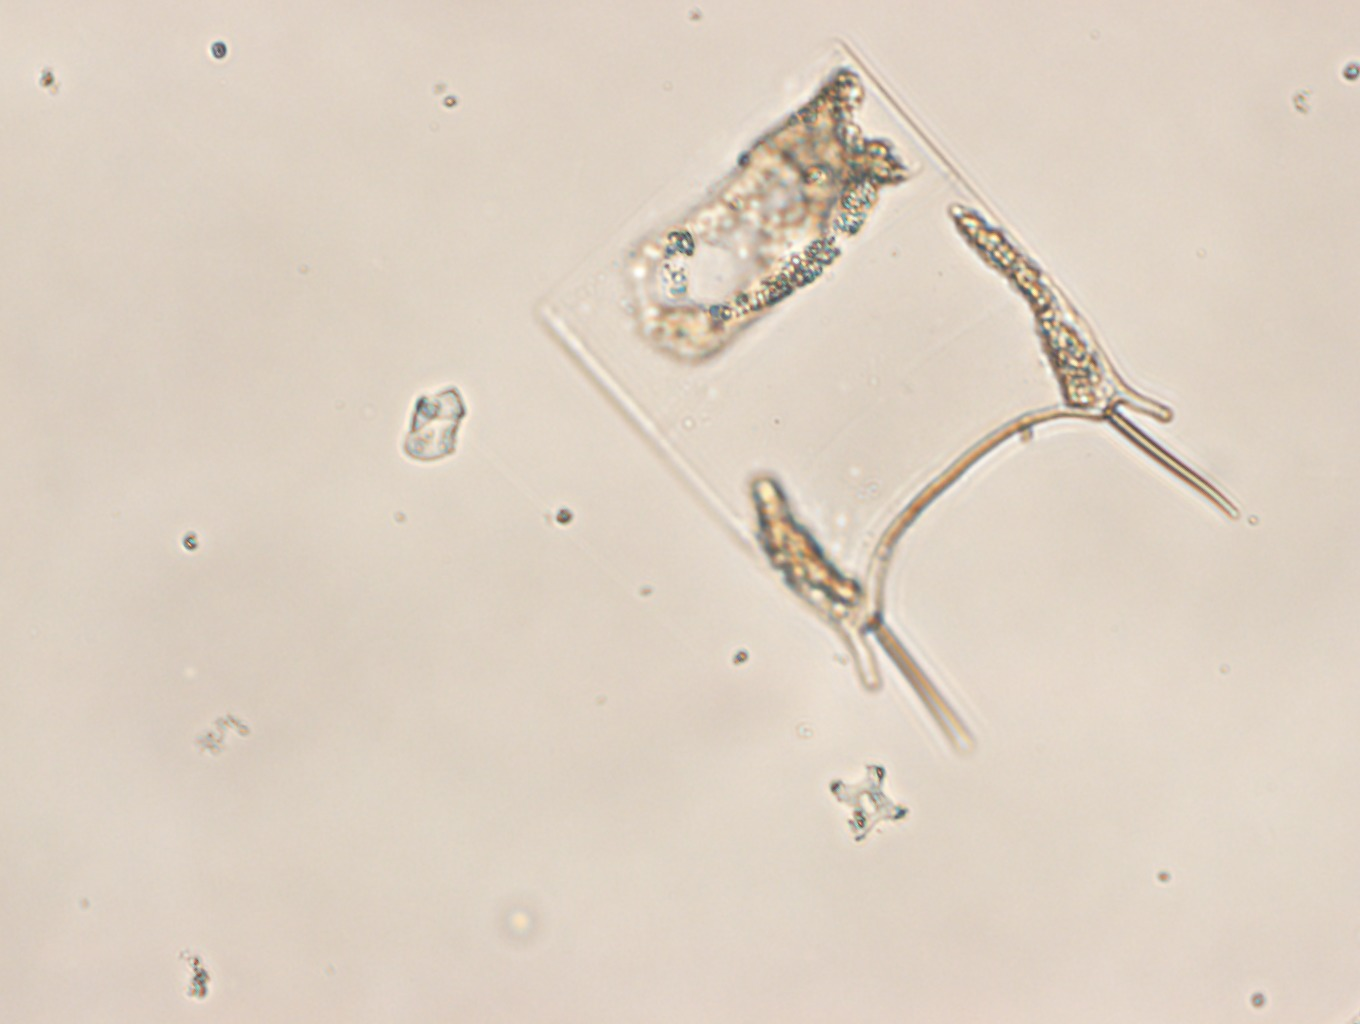biddulphia: (529, 41, 1242, 755)
